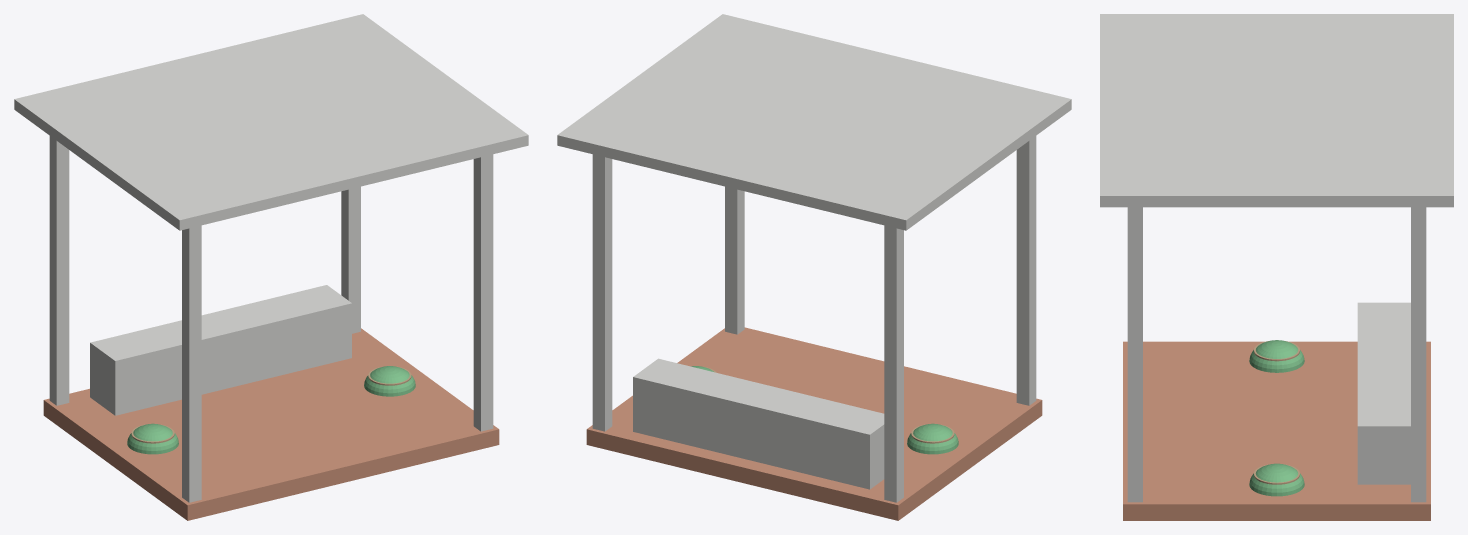
The picture shows the model from 3 angles, left to right: view 1: azimuth 30°, elevation 25°; view 2: azimuth 150°, elevation 25°; view 3: azimuth 270°, elevation 25°; orthographic projection. The views are drawn at different scales.
Visible parts, largest first — view 1: Wood_Roof, Brick_Base, Garden_Bench, Wood_Post_1_-1, Wood_Post_-1_1, Wood_Post_-1_-1, Wood_Post_1_1, Hanging_Plant_1, Hanging_Plant_-1; view 2: Wood_Roof, Brick_Base, Garden_Bench, Wood_Post_1_1, Wood_Post_-1_-1, Wood_Post_-1_1, Wood_Post_1_-1, Hanging_Plant_-1; view 3: Wood_Roof, Brick_Base, Garden_Bench, Wood_Post_1_-1, Wood_Post_1_1, Hanging_Plant_1, Hanging_Plant_-1.
Boxes of the visible parts, box(x1,y1,x2,y2) form: Wood_Roof: box(14, 14, 528, 230); Brick_Base: box(43, 328, 499, 520); Garden_Bench: box(90, 285, 351, 415); Wood_Post_1_-1: box(473, 154, 493, 431); Wood_Post_-1_1: box(49, 136, 69, 405); Wood_Post_-1_-1: box(182, 225, 201, 502); Wood_Post_1_1: box(341, 186, 360, 333); Hanging_Plant_1: box(364, 366, 415, 396); Hanging_Plant_-1: box(127, 423, 178, 454); Wood_Roof: box(557, 14, 1071, 230); Brick_Base: box(586, 327, 1042, 520); Garden_Bench: box(633, 358, 884, 489); Wood_Post_1_1: box(592, 154, 612, 431); Wood_Post_-1_-1: box(1016, 136, 1036, 405); Wood_Post_-1_1: box(884, 225, 903, 502); Wood_Post_1_-1: box(725, 186, 744, 334); Hanging_Plant_-1: box(907, 423, 958, 454); Wood_Roof: box(1100, 14, 1453, 207); Brick_Base: box(1123, 341, 1430, 520); Garden_Bench: box(1357, 302, 1410, 484); Wood_Post_1_-1: box(1127, 207, 1142, 502); Wood_Post_1_1: box(1411, 207, 1426, 502); Hanging_Plant_1: box(1249, 463, 1304, 496); Hanging_Plant_-1: box(1249, 340, 1304, 372).
Bounding box in the file's own units: 2.8 × 2.41 × 2.3.
